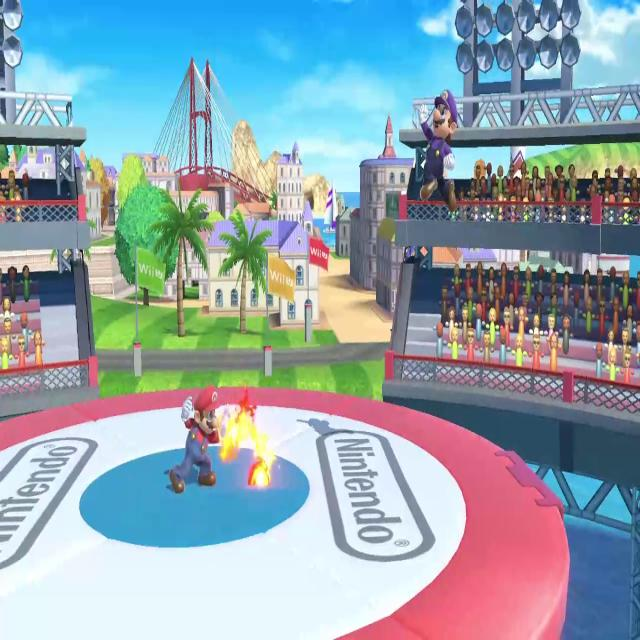Mario-NB: (168, 380, 228, 500)
Mario-jump: (416, 84, 462, 218)
